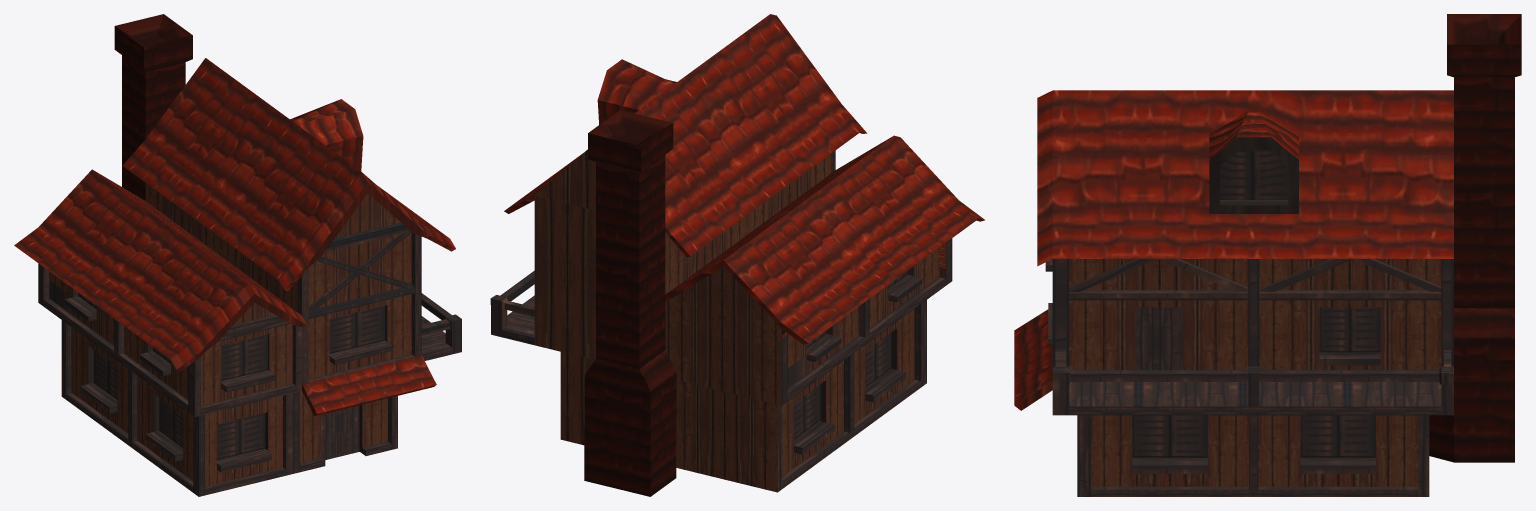
Rendered from tavern_ext.fbx.
3 views of the same model, side by side, from view 1: azimuth 30°, elevation 25°; view 2: azimuth 150°, elevation 25°; view 3: azimuth 270°, elevation 25° (orthographic). The views are drawn at different scales.
Parts seen in each view (by area): view 1: Cube.001; view 2: Cube.001; view 3: Cube.001.
Part boxes in pixels (x1=…): Cube.001: x1=14, y1=14, x2=461, y2=496; Cube.001: x1=490, y1=14, x2=984, y2=496; Cube.001: x1=1014, y1=14, x2=1521, y2=496.
Size of the model in its own units: 1361 by 1435 by 1595.
